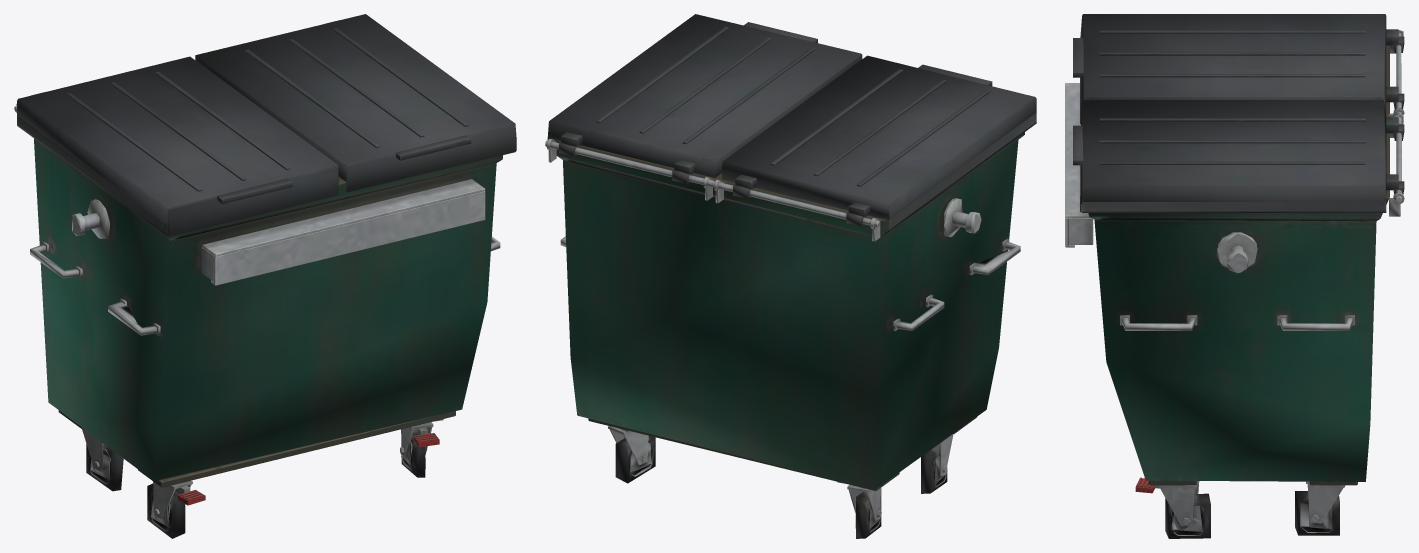
File: p_dumpster.glb
The picture shows the model from 3 angles, left to right: view 1: azimuth 30°, elevation 25°; view 2: azimuth 150°, elevation 25°; view 3: azimuth 270°, elevation 25°; orthographic projection. The views are drawn at different scales.
Parts seen in each view (by area): view 1: dumpster_body; view 2: dumpster_body; view 3: dumpster_body.
Part boxes in pixels (<box>): dumpster_body: <box>14,14,516,538</box>; dumpster_body: <box>545,14,1036,538</box>; dumpster_body: <box>1065,14,1404,538</box>.
Bounding box in the file's own units: 1.38 × 1.31 × 1.05.
1 material, 1 textured.
